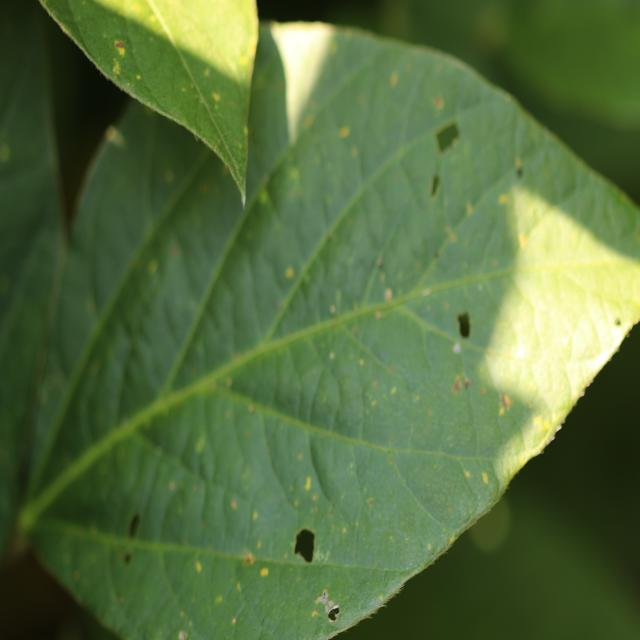Soybean: (0, 0, 640, 640)
downey_mildew: (162, 448, 278, 583), (531, 331, 626, 461), (276, 458, 362, 580), (153, 535, 255, 633), (441, 353, 525, 450), (160, 38, 237, 141), (442, 302, 510, 413), (288, 519, 341, 627), (263, 148, 317, 225), (350, 573, 412, 626), (119, 512, 141, 565), (435, 121, 460, 153), (110, 42, 127, 78), (455, 310, 471, 338), (128, 511, 142, 538), (452, 375, 470, 394), (430, 174, 441, 197), (288, 166, 300, 184), (0, 143, 11, 162), (195, 435, 206, 453), (258, 190, 270, 206), (584, 375, 596, 391), (518, 231, 529, 248), (514, 157, 523, 177), (446, 227, 457, 243), (114, 39, 125, 55), (106, 127, 117, 142), (433, 95, 444, 109), (339, 125, 350, 138), (148, 260, 158, 274), (498, 193, 509, 205), (390, 72, 398, 87), (285, 266, 294, 279), (465, 201, 473, 215), (384, 288, 392, 302), (304, 476, 311, 492), (238, 55, 248, 66), (453, 342, 462, 354), (195, 560, 202, 573), (422, 287, 431, 297), (178, 630, 187, 640), (390, 385, 397, 395), (376, 257, 383, 267), (231, 499, 237, 510), (464, 470, 471, 479), (203, 68, 210, 77), (169, 480, 175, 490), (375, 310, 381, 320), (330, 304, 336, 314), (226, 377, 232, 387), (433, 249, 439, 259), (150, 15, 157, 23), (615, 318, 622, 326), (367, 497, 373, 506), (248, 404, 254, 413), (626, 329, 632, 338), (449, 536, 455, 544), (359, 358, 364, 367), (329, 351, 334, 360), (427, 542, 432, 551), (112, 65, 117, 72), (312, 494, 317, 501), (372, 381, 377, 388), (390, 365, 395, 372), (328, 509, 333, 516), (136, 74, 141, 80), (428, 409, 433, 415), (390, 437, 394, 444), (162, 94, 166, 98)
